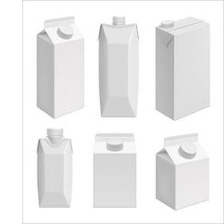carton: (151, 12, 213, 121), (33, 13, 89, 120), (94, 10, 143, 120), (152, 130, 211, 211), (29, 125, 79, 212), (90, 128, 139, 210)
